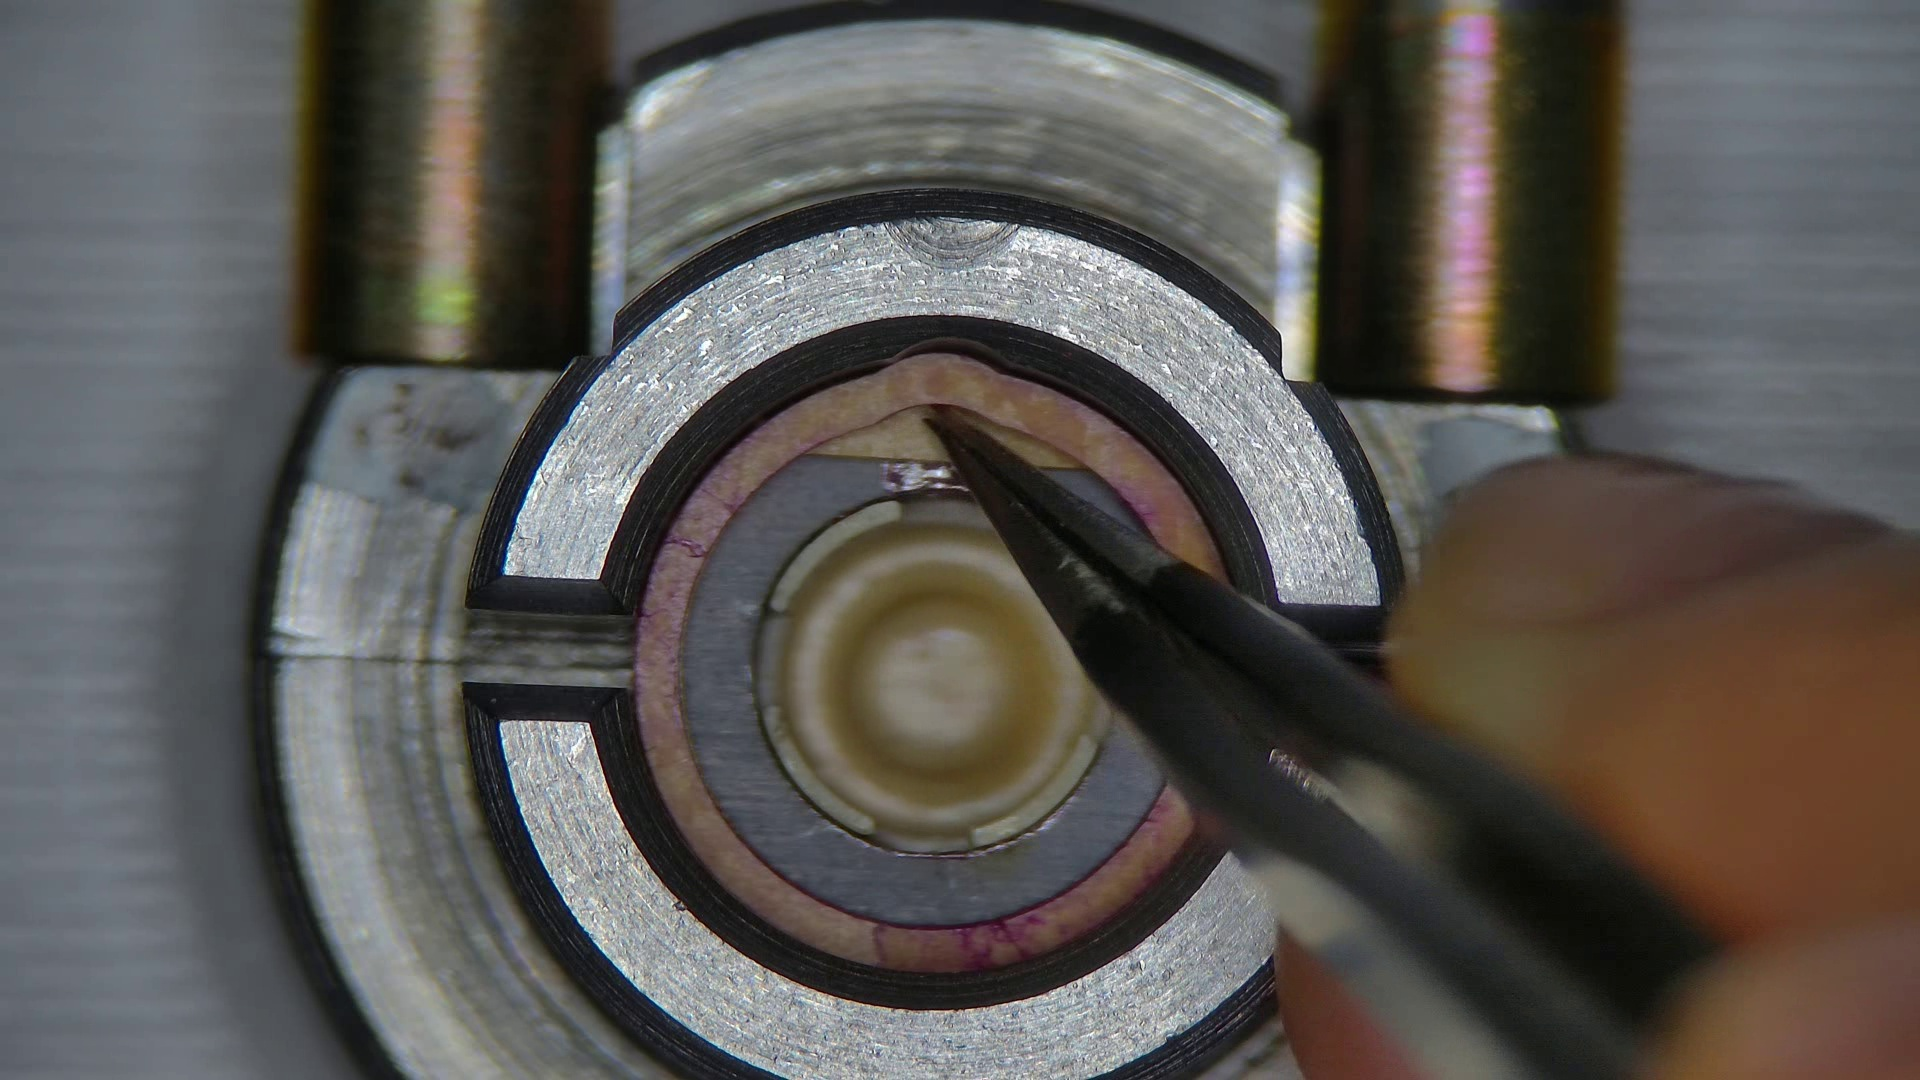GreyOring: (635, 352, 1224, 972)
YellowOring: (683, 456, 1162, 924), (1078, 471, 1152, 552)
redOring: (957, 410, 1076, 468), (813, 413, 945, 458)
